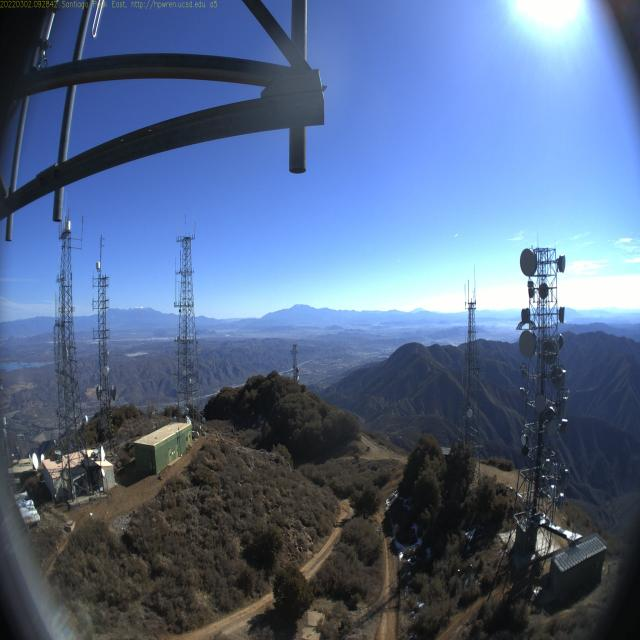smoke: (604, 481, 640, 536)
